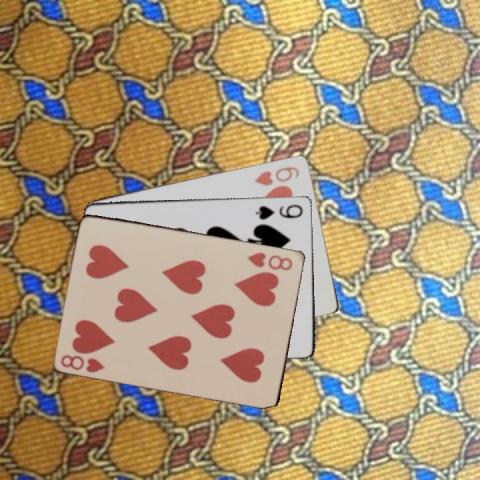6h: (251, 163, 301, 187)
8h: (244, 249, 294, 272), (58, 351, 107, 374)
9s: (252, 201, 304, 221)
